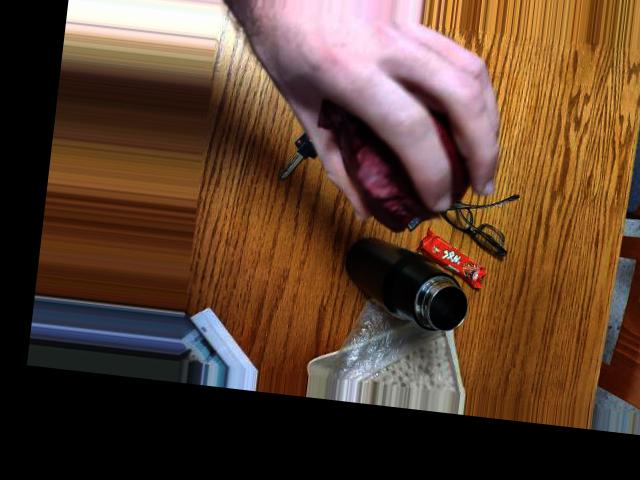onion: (346, 103, 482, 228)
